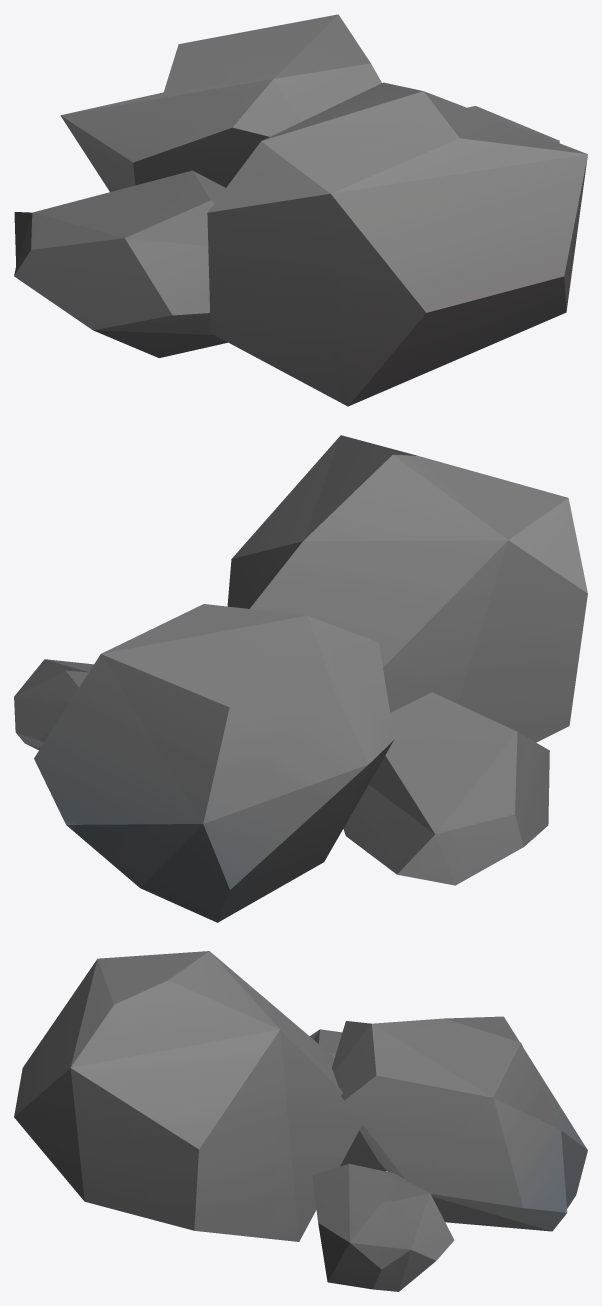
File: rocks3.glb
3 views of the same model, one above another, from view 1: azimuth 30°, elevation 25°; view 2: azimuth 150°, elevation 25°; view 3: azimuth 270°, elevation 25° (orthographic). The views are drawn at different scales.
Parts seen in each view (by area): view 1: rocks3; view 2: rocks3; view 3: rocks3.
Part boxes in pixels (left/top/right/bottom): rocks3: left=14, top=14, right=587, bottom=406; rocks3: left=14, top=435, right=587, bottom=922; rocks3: left=14, top=951, right=587, bottom=1291.
Size of the model in its own units: 1.04 by 0.5572 by 1.17.
1 material, 1 textured.
